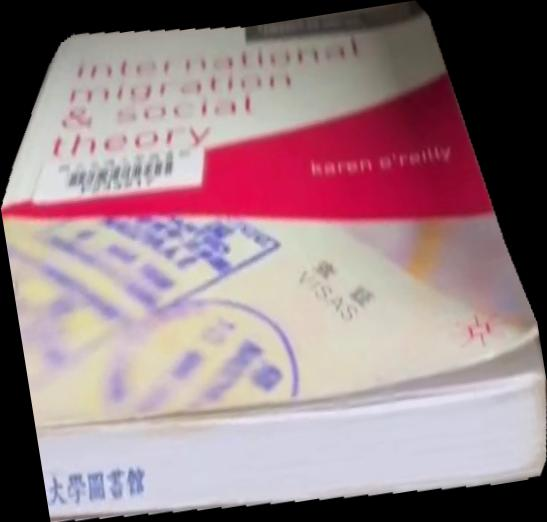flat: (1, 1, 547, 522)
